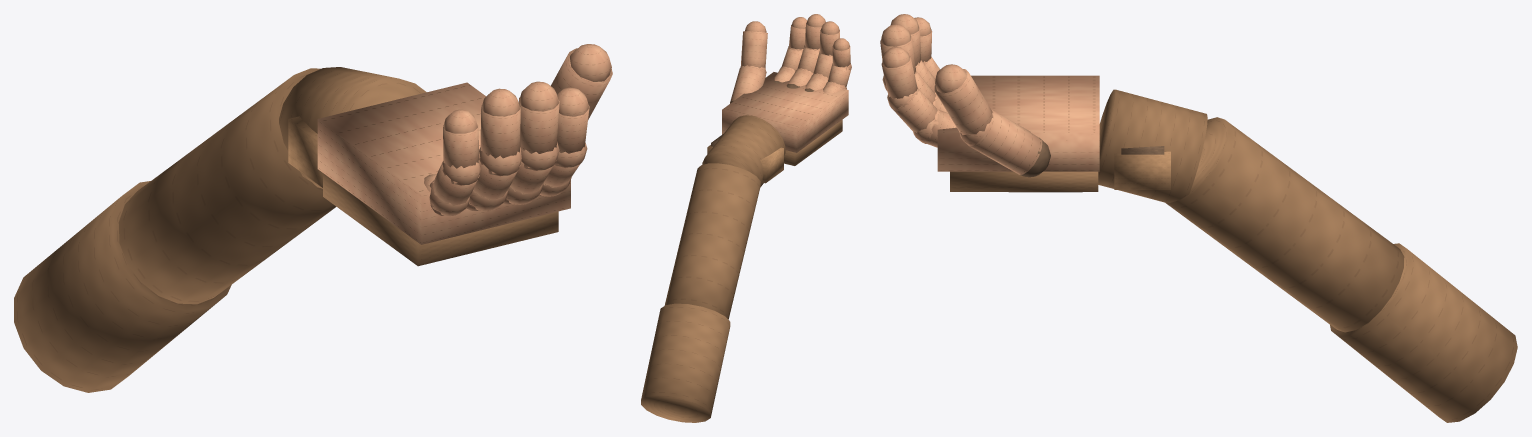
The model's file is glove.glb.
3 views of the same model, side by side, from view 1: azimuth 30°, elevation 25°; view 2: azimuth 150°, elevation 25°; view 3: azimuth 270°, elevation 25° (orthographic). The views are drawn at different scales.
Parts seen in each view (by area): view 1: glove; view 2: glove; view 3: glove.
Part boxes in pixels (left/top/right/bottom): glove: left=14, top=44, right=612, bottom=392; glove: left=641, top=14, right=851, bottom=422; glove: left=880, top=14, right=1517, bottom=422.
Size of the model in its own units: 0.1735 by 0.3455 by 0.4728.
Materials: 1 (1 with a texture image).
